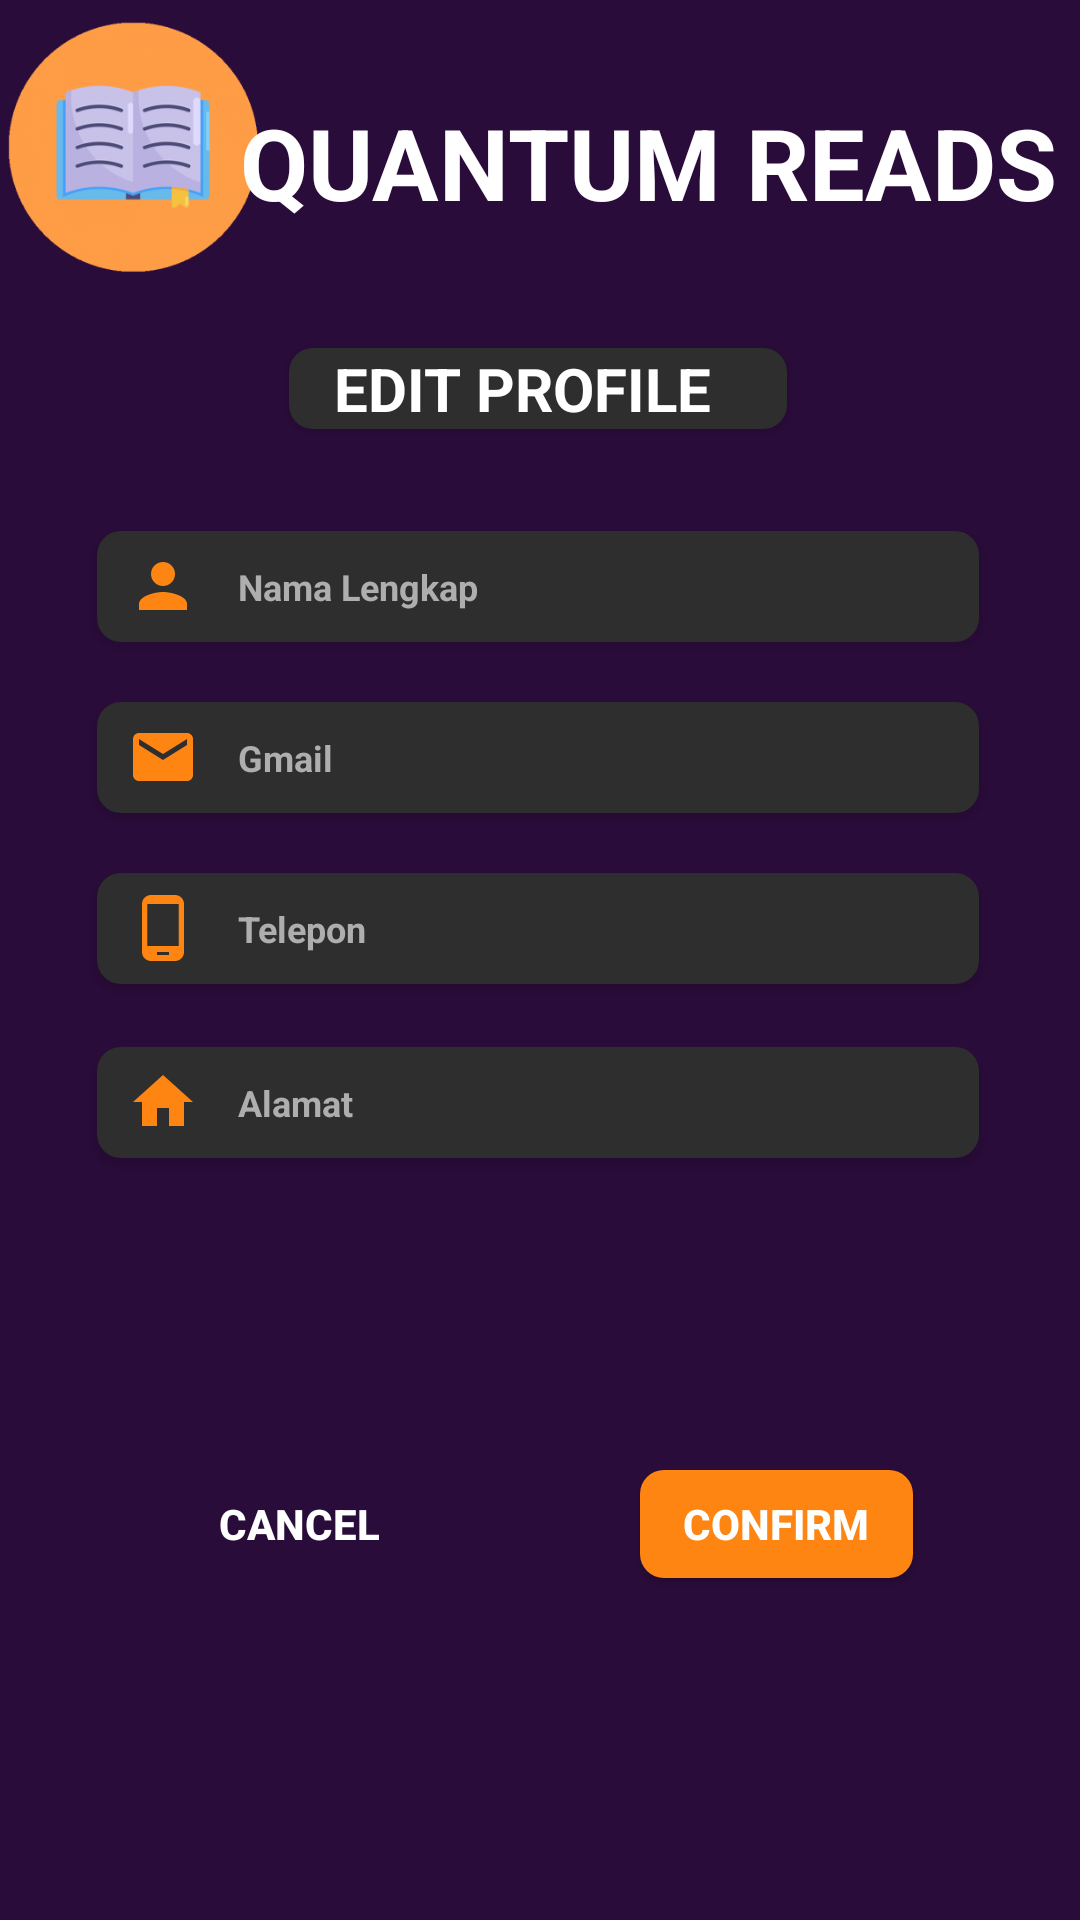

Icons on this 1080x1920 Android screen, each with its box as (x1, y1, x2, y2):
login buku: (8, 22, 264, 272)
